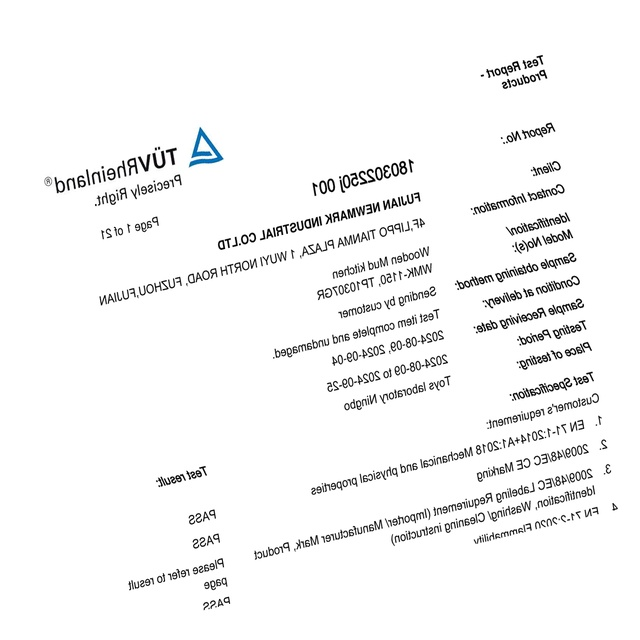tuv_rheinland: (41, 124, 224, 206)
